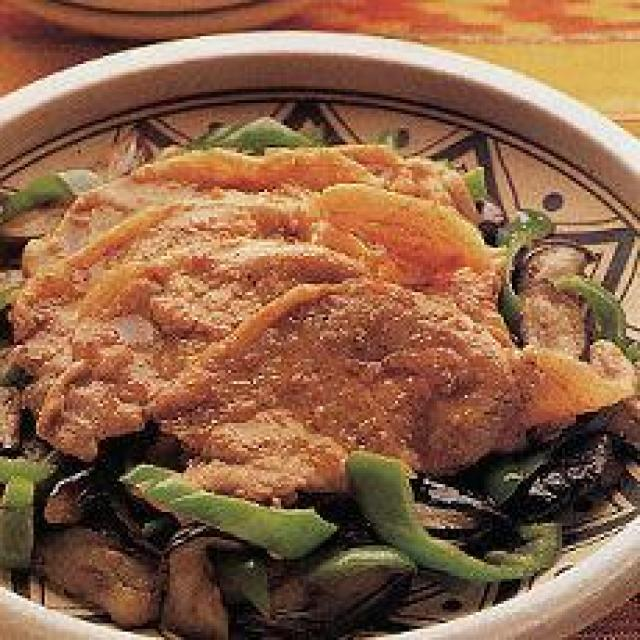猪肉菜式: (0, 120, 640, 514)
